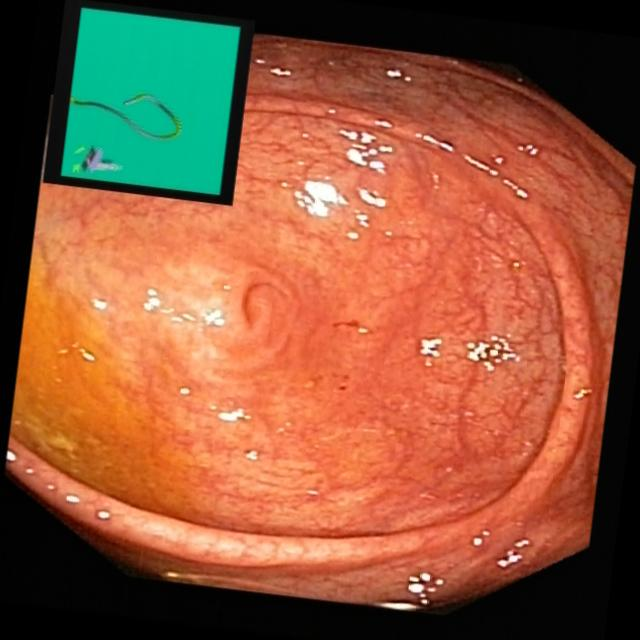normal-cecum: (9, 230, 217, 528)
